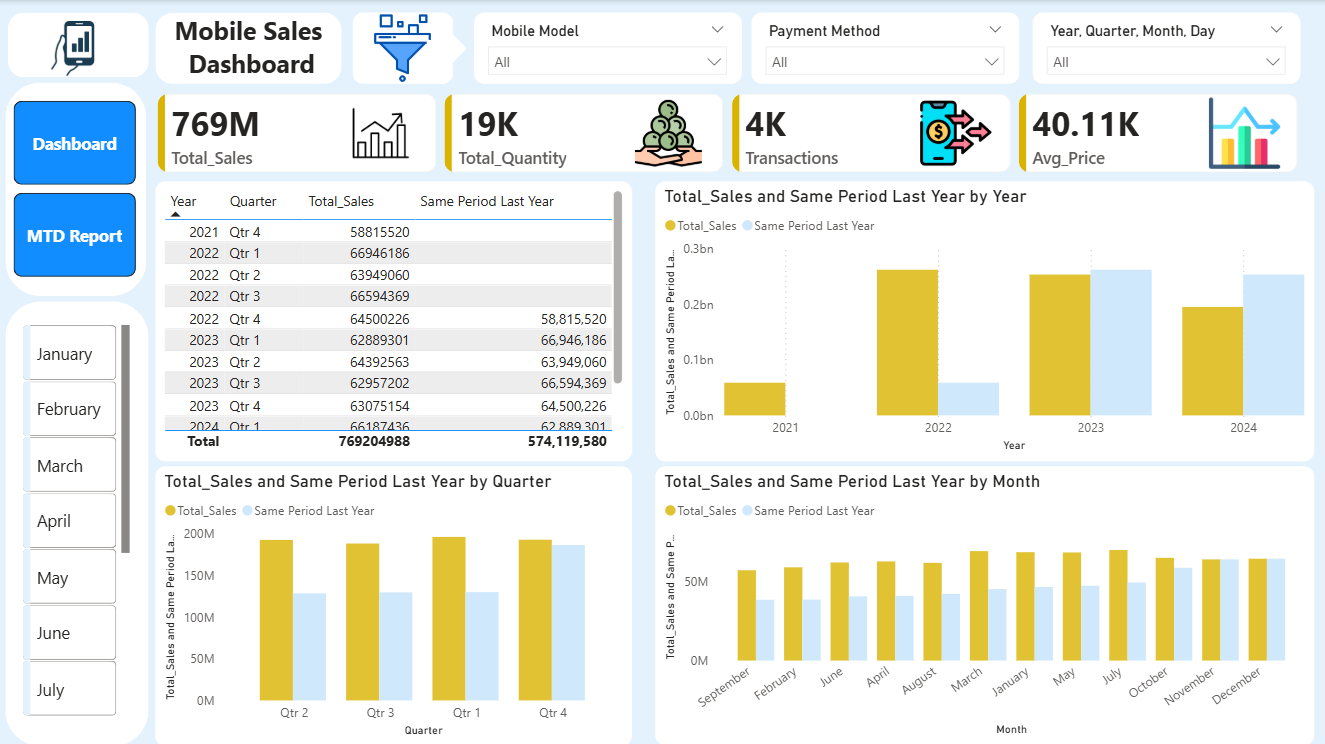

This screenshot's page, from the dashboard's own definition file:
{"tool":"powerbi","page":{"name":"Same Period Last Year","canvas":[1280,720],"ordinal":2},"visuals":[{"type":"image","box":[341.6,11.5,96.6,69.2],"z":0,"group":"g2"},{"type":"shape","box":[8.2,12.1,136.3,62.7],"z":0},{"type":"shape","box":[412.2,29.5,38.9,33.2],"z":1000,"group":"g2"},{"type":"shape","box":[6,79.6,136.3,206.3],"z":1000},{"type":"image","box":[45.4,5.8,62,75],"z":2000},{"type":"group","id":"g1","title":"Group 1","box":[141.3,77.8,1125.8,99.5],"z":3000},{"type":"slicer","fields":{"Values":["Sales Data.Mobile Model"]},"box":[458.4,11.5,258,69.2],"z":4000},{"type":"slicer","fields":{"Values":["Sales Data.Payment Method"]},"box":[726.3,12.1,258.2,68.8],"z":5000},{"type":"cardVisual","fields":{"Data":["Sales Data.Total_Sales","Sales Data.Total_Quantity","Sales Data.Transactions","Sales Data.Avg_Price"]},"box":[141.3,77.8,1125.8,100.4],"z":5000,"group":"g1"},{"type":"slicer","fields":{"Values":["Custom Calender.Date.Variation.Date Hierarchy.Year","Custom Calender.Date.Variation.Date Hierarchy.Quarter","Custom Calender.Date.Variation.Date Hierarchy.Month","Custom Calender.Date.Variation.Date Hierarchy.Day"]},"box":[997.7,12.1,258.2,68.8],"z":6000},{"type":"image","box":[319.4,93.6,97.8,68.8],"z":6000,"group":"g1"},{"type":"group","id":"g2","title":"Group 2","box":[341.6,11.5,109.5,69.2],"z":7000},{"type":"image","box":[597.4,93.6,97.8,68.8],"z":7000,"group":"g1"},{"type":"shape","box":[151.4,11.5,180,69.2],"z":8000},{"type":"image","box":[875.3,93.6,97.8,68.8],"z":8000,"group":"g1"},{"type":"textbox","box":[141.3,8.6,198.9,75],"z":9000},{"type":"image","box":[1153.2,93.6,97.8,68.8],"z":9000,"group":"g1"},{"type":"shape","box":[5.8,290.5,138.4,429.5],"z":10000},{"type":"advancedSlicerVisual","fields":{"Values":["Custom Calender.Date.Variation.Date Hierarchy.Month"]},"box":[18.4,308.5,113.9,393.5],"z":11000},{"type":"tableEx","fields":{"Values":["Custom Calender.Date.Variation.Date Hierarchy.Year","Custom Calender.Date.Variation.Date Hierarchy.Quarter","Sales Data.Total_Sales","Sales Data.Same Period Last Year"]},"box":[151.4,174.4,460,270],"z":12000},{"type":"clusteredColumnChart","fields":{"Category":["Custom Calender.Date.Variation.Date Hierarchy.Year","Custom Calender.Date.Variation.Date Hierarchy.Quarter","Custom Calender.Date.Variation.Date Hierarchy.Month","Custom Calender.Date.Variation.Date Hierarchy.Day"],"Y":["Sales Data.Total_Sales","Sales Data.Same Period Last Year"]},"box":[632.8,174.4,635.7,270],"z":13000},{"type":"clusteredColumnChart","fields":{"Category":["Custom Calender.Date.Variation.Date Hierarchy.Year","Custom Calender.Date.Variation.Date Hierarchy.Quarter","Custom Calender.Date.Variation.Date Hierarchy.Month","Custom Calender.Date.Variation.Date Hierarchy.Day"],"Y":["Sales Data.Total_Sales","Sales Data.Same Period Last Year"]},"box":[632.8,450.5,635.7,269.5],"z":14000},{"type":"clusteredColumnChart","fields":{"Category":["Custom Calender.Date.Variation.Date Hierarchy.Year","Custom Calender.Date.Variation.Date Hierarchy.Quarter","Custom Calender.Date.Variation.Date Hierarchy.Month","Custom Calender.Date.Variation.Date Hierarchy.Day"],"Y":["Sales Data.Total_Sales","Sales Data.Same Period Last Year"]},"box":[151.4,450,460,270],"z":15000},{"type":"pageNavigator","box":[12.9,96.6,120,173],"z":16000}]}

Visuals, with their boxes in screenshot pixels (x1, y1, x2, y2), scaled from the page's 1280x720 canvas onto the 1325x744 screenshot:
image: 354,12,454,83
shape: 8,13,150,77
shape: 427,30,467,65
shape: 6,82,147,295
image: 47,6,111,83
"Group 1" group: 146,80,1312,183
slicer - Sales Data.Mobile Model: 475,12,742,83
slicer - Sales Data.Payment Method: 752,13,1019,84
cardVisual - Sales Data.Total_Sales x Sales Data.Total_Quantity: 146,80,1312,184
slicer - Custom Calender.Date.Variation.Date Hierarchy.Year x Custom Calender.Date.Variation.Date Hierarchy.Quarter: 1033,13,1300,84
image: 331,97,432,168
"Group 2" group: 354,12,467,83
image: 618,97,720,168
shape: 157,12,343,83
image: 906,97,1007,168
textbox: 146,9,352,86
image: 1194,97,1295,168
shape: 6,300,149,743
advancedSlicerVisual - Custom Calender.Date.Variation.Date Hierarchy.Month: 19,319,137,725
tableEx - Custom Calender.Date.Variation.Date Hierarchy.Year x Custom Calender.Date.Variation.Date Hierarchy.Quarter: 157,180,633,459
clusteredColumnChart - Custom Calender.Date.Variation.Date Hierarchy.Year x Custom Calender.Date.Variation.Date Hierarchy.Quarter: 655,180,1313,459
clusteredColumnChart - Custom Calender.Date.Variation.Date Hierarchy.Year x Custom Calender.Date.Variation.Date Hierarchy.Quarter: 655,466,1313,743
clusteredColumnChart - Custom Calender.Date.Variation.Date Hierarchy.Year x Custom Calender.Date.Variation.Date Hierarchy.Quarter: 157,465,633,743
pageNavigator: 13,100,138,279
